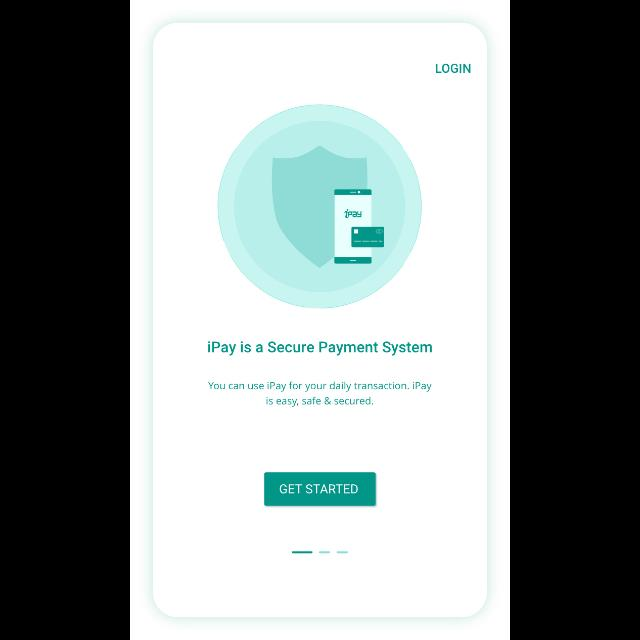image: (218, 104, 422, 310)
pageindicator: (292, 550, 348, 554)
panel: (152, 22, 488, 618)
text: (208, 381, 432, 407), (208, 342, 432, 356), (436, 64, 472, 74)
textbutton: (264, 472, 376, 506)
